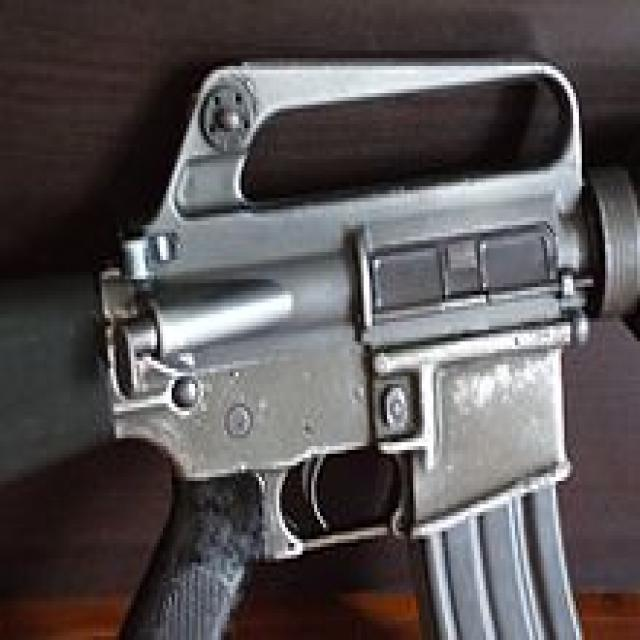m16: (56, 58, 546, 566)
